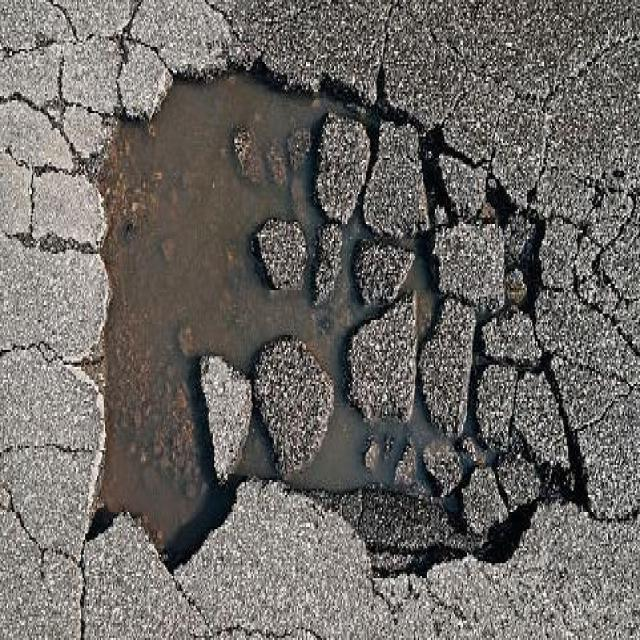pothole: (61, 34, 603, 601), (80, 49, 603, 587)
